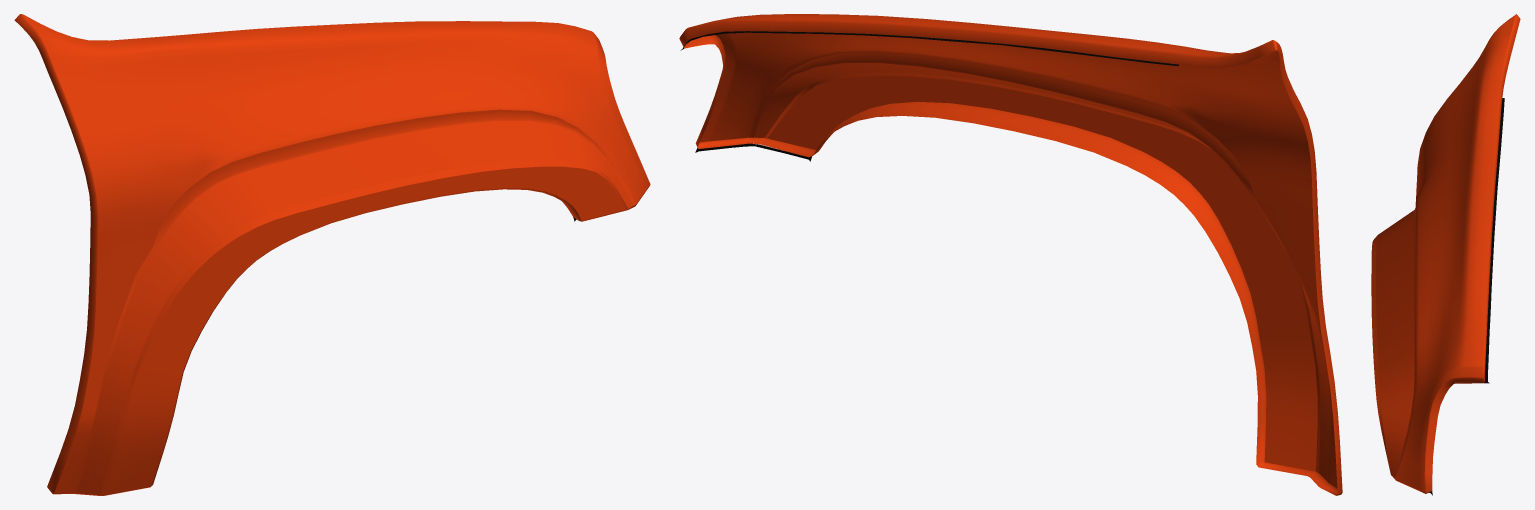
3 renders of one model, left to right at view 1: azimuth 30°, elevation 25°; view 2: azimuth 150°, elevation 25°; view 3: azimuth 270°, elevation 25°, orthographic. The views are drawn at different scales.
Visible parts, largest first — view 1: U843_9A_141B_R_U843_9A_141B_R_1_DaS, U843_9A_141B_R_U843_9A_141B_R_1_DaS_E; view 2: U843_9A_141B_R_U843_9A_141B_R_1_DaS, U843_9A_141B_R_U843_9A_141B_R_1_DaS_E, U843_9A_141B_R_2_D_U843_9A_141B_R; view 3: U843_9A_141B_R_U843_9A_141B_R_1_DaS, U843_9A_141B_R_U843_9A_141B_R_1_DaS_E, U843_9A_141B_R_2_D_U843_9A_141B_R.
Boxes of the visible parts, x1=… form: U843_9A_141B_R_U843_9A_141B_R_1_DaS: x1=24, y1=15, x2=650, y2=494; U843_9A_141B_R_U843_9A_141B_R_1_DaS_E: x1=14, y1=14, x2=649, y2=495; U843_9A_141B_R_U843_9A_141B_R_1_DaS: x1=700, y1=14, x2=1337, y2=488; U843_9A_141B_R_U843_9A_141B_R_1_DaS_E: x1=679, y1=19, x2=1342, y2=495; U843_9A_141B_R_2_D_U843_9A_141B_R: x1=680, y1=31, x2=1178, y2=161; U843_9A_141B_R_U843_9A_141B_R_1_DaS: x1=1376, y1=15, x2=1515, y2=492; U843_9A_141B_R_U843_9A_141B_R_1_DaS_E: x1=1371, y1=14, x2=1520, y2=493; U843_9A_141B_R_2_D_U843_9A_141B_R: x1=1429, y1=98, x2=1504, y2=495.
Size of the model in its own units: 108 by 77.89 by 27.3.
